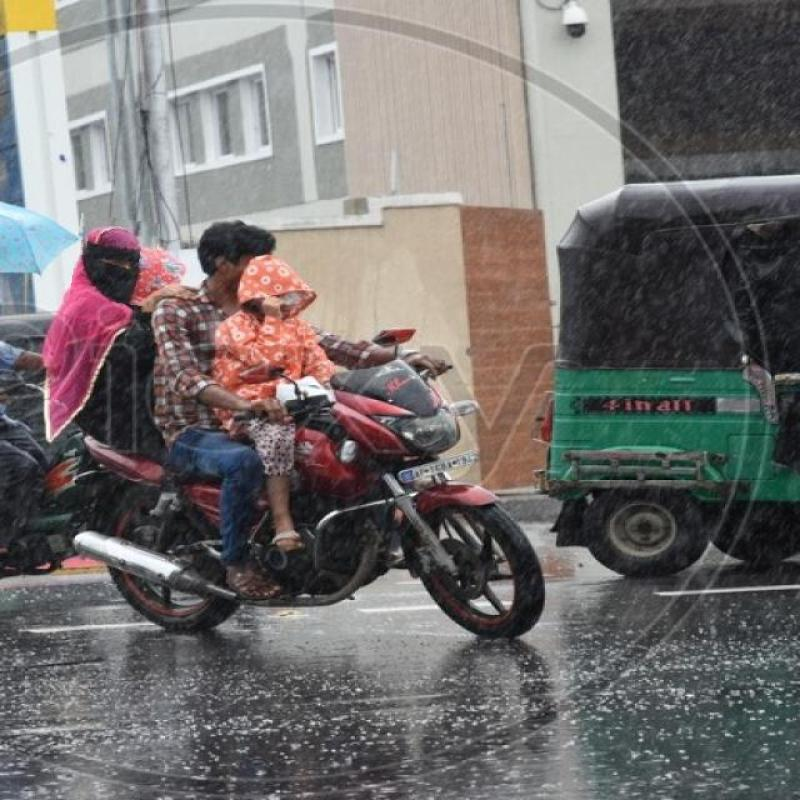nohelmet: (191, 195, 284, 290), (73, 216, 158, 305)
